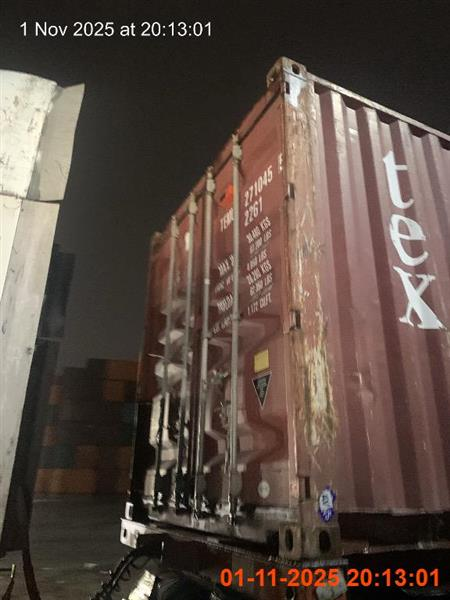broken: (116, 57, 449, 599)
